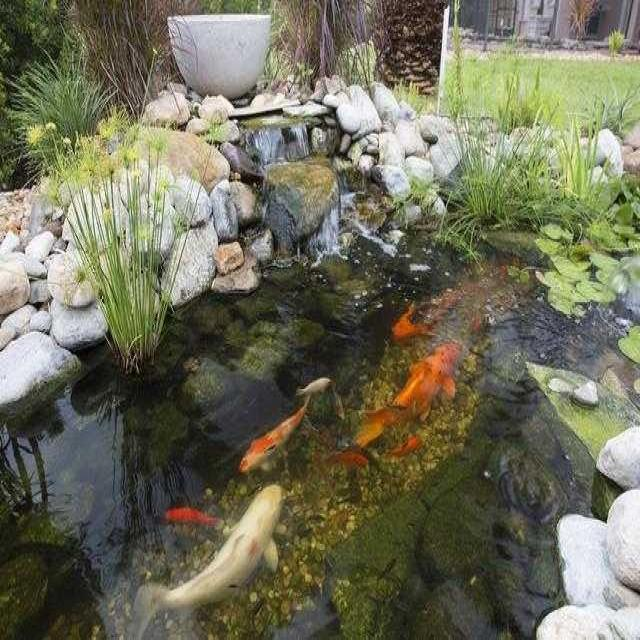Ponds: (5, 83, 640, 640)
